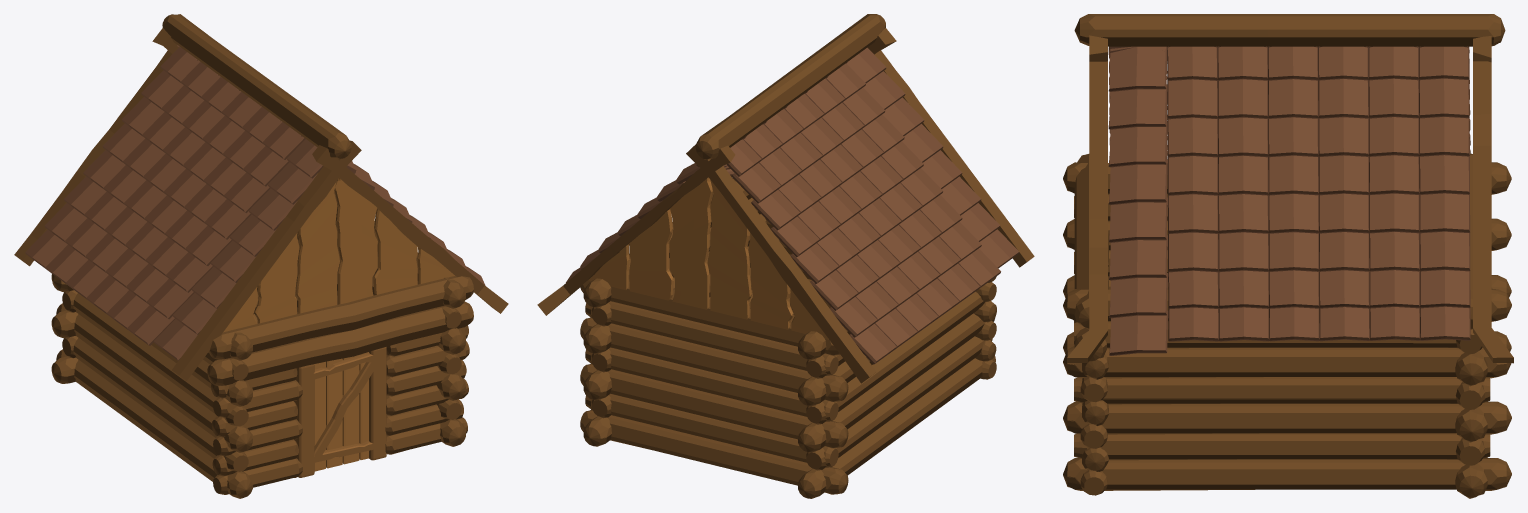
The model's file is Rumah1.fbx.
The picture shows the model from 3 angles, left to right: view 1: azimuth 30°, elevation 25°; view 2: azimuth 150°, elevation 25°; view 3: azimuth 270°, elevation 25°; orthographic projection. The views are drawn at different scales.
Parts seen in each view (by area): view 1: Cube.221; view 2: Cube.221; view 3: Cube.221.
Part boxes in pixels (<box>): Cube.221: <box>14,14,508,498</box>; Cube.221: <box>537,14,1034,498</box>; Cube.221: <box>1063,14,1513,498</box>.
Size of the model in its own units: 901 by 889 by 889.
